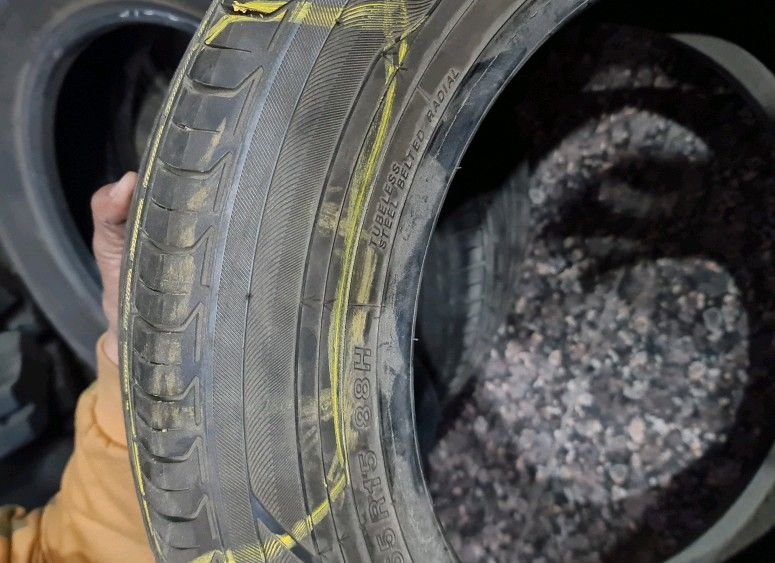CBU: (173, 126, 321, 455)
